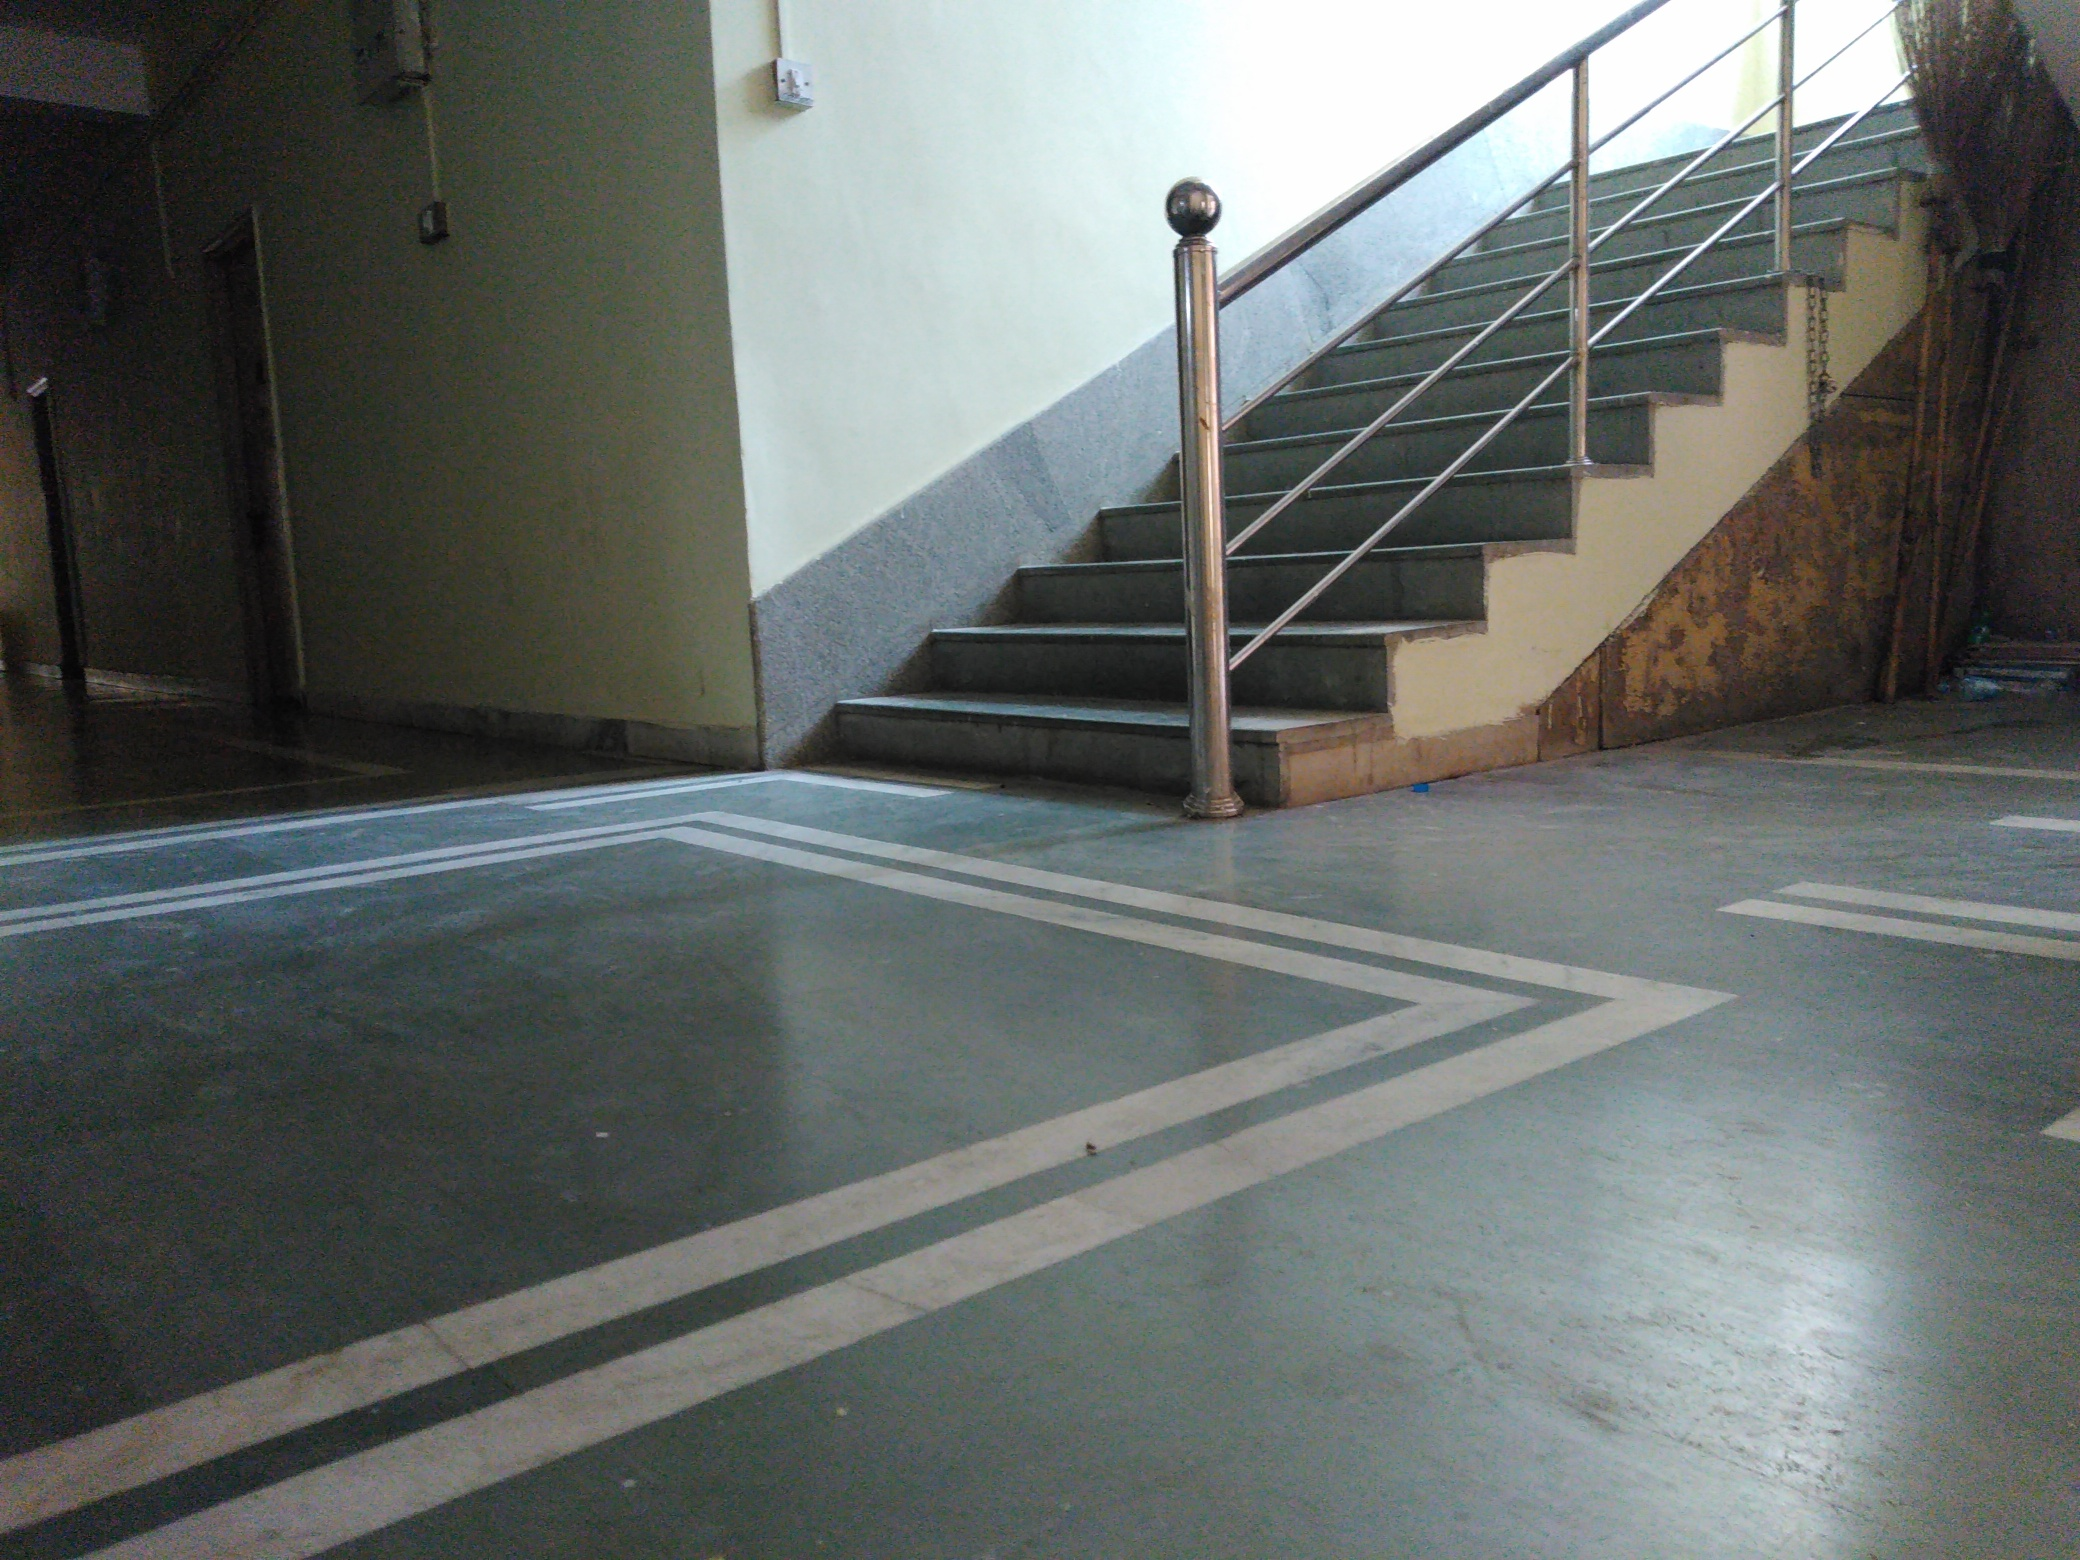stairs_up: (848, 90, 1929, 775)
